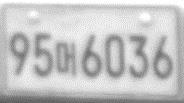0: (103, 33, 126, 78)
3: (128, 33, 149, 79)
5: (33, 32, 53, 78)
6: (80, 34, 103, 78), (152, 34, 174, 80)
9: (8, 31, 30, 76)
머: (54, 40, 79, 78)
